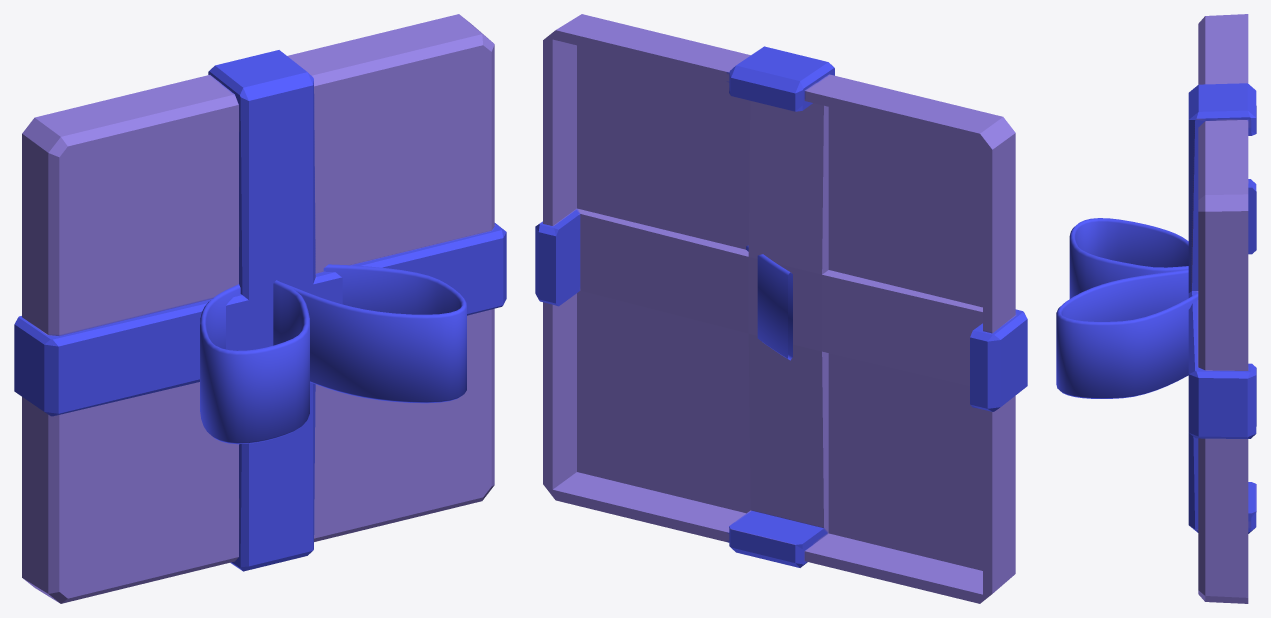
File: lid.glb
The picture shows the model from 3 angles, left to right: view 1: azimuth 30°, elevation 25°; view 2: azimuth 150°, elevation 25°; view 3: azimuth 270°, elevation 25°; orthographic projection. The views are drawn at different scales.
Parts seen in each view (by area): view 1: Plane; view 2: Plane; view 3: Plane.
Boxes of the visible parts, box(x1,y1,x2,y2) form: Plane: box(14, 14, 506, 603); Plane: box(535, 14, 1027, 603); Plane: box(1056, 14, 1256, 603).
Bounding box in the file's own units: 2.26 × 2.26 × 0.9665.
2 materials, 2 textured.
